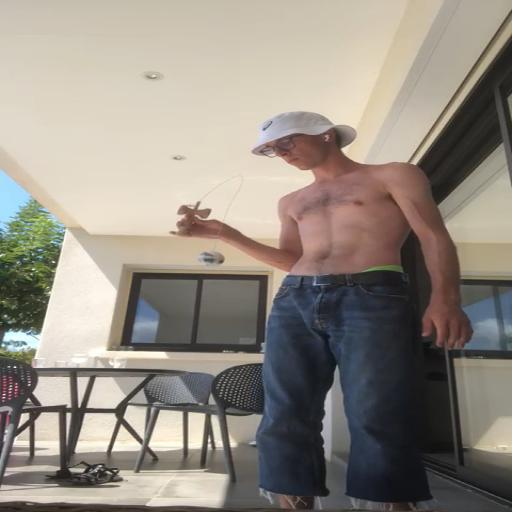kendama_ball: (198, 251, 225, 266)
